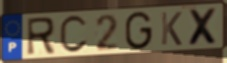2: (93, 13, 119, 53)
C: (58, 14, 89, 55)
G: (124, 10, 154, 51)
K: (160, 11, 184, 47)
R: (25, 15, 57, 58)
X: (187, 7, 221, 47)
